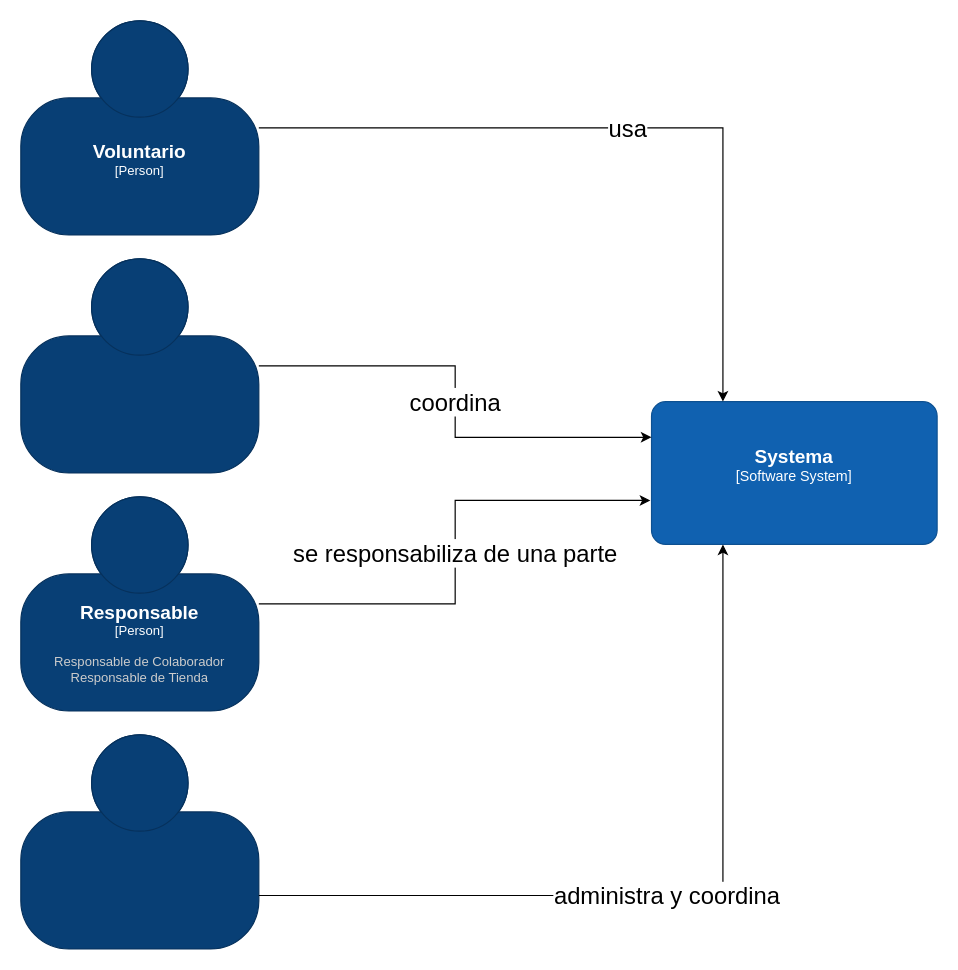
This 958x970 diagram has some shape labels left out. The box of each missing label's shape, as (x1, y1, x2, y2) in pixels:
Administrador [Person] Alto cargo Bancosol Mantenedor de la intranet: (20, 734, 259, 949)
Coordinador [Person]: (20, 258, 259, 473)
